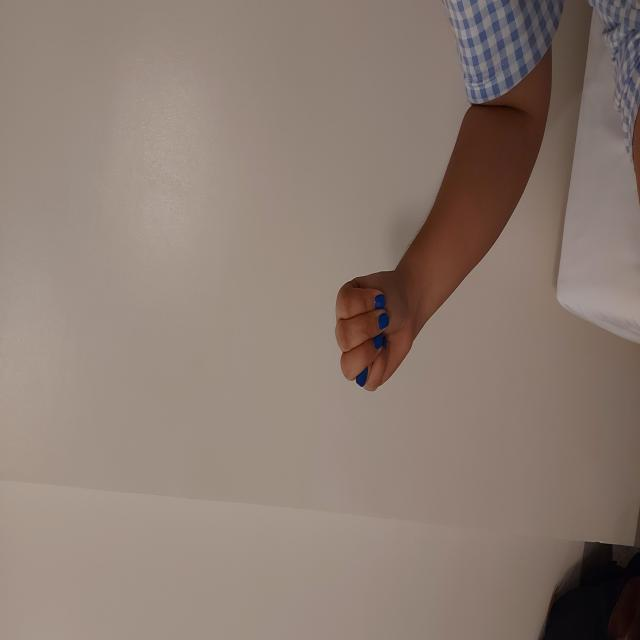M: (246, 333, 374, 415)
